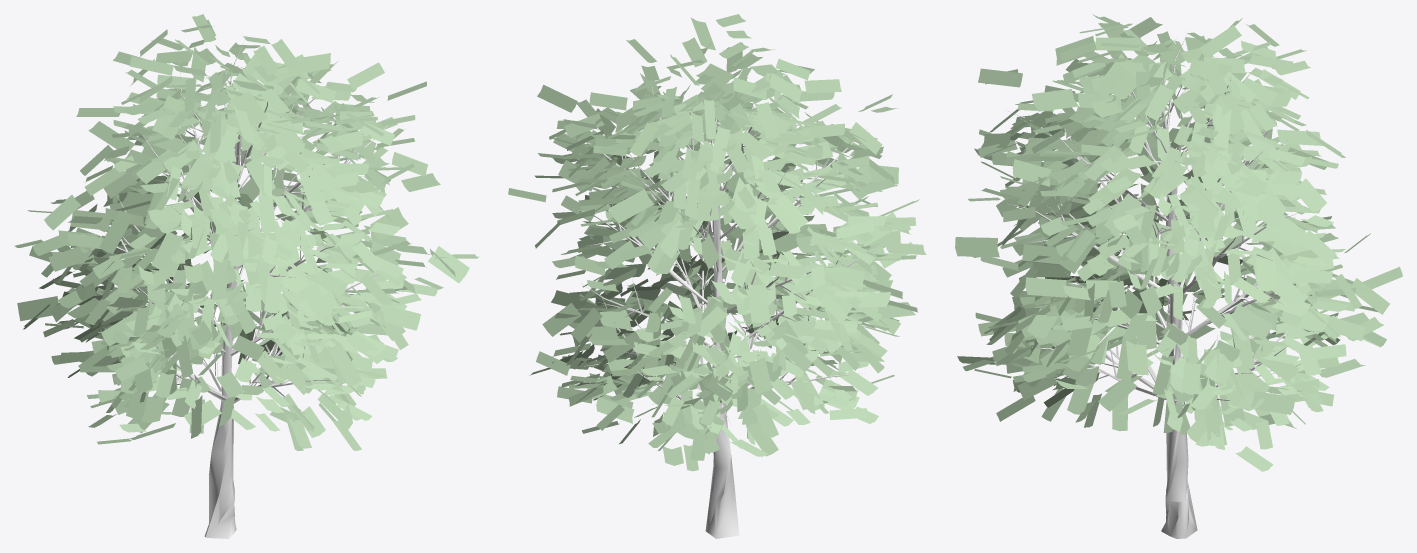
The model's file is tree_realistic_far.glb.
The picture shows the model from 3 angles, left to right: view 1: azimuth 30°, elevation 25°; view 2: azimuth 150°, elevation 25°; view 3: azimuth 270°, elevation 25°; orthographic projection. The views are drawn at different scales.
Visible parts, largest first — view 1: tree_tree; view 2: tree_tree; view 3: tree_tree.
Boxes of the visible parts, x1,y1,x2,y2 form: tree_tree: (14, 14, 478, 538); tree_tree: (508, 14, 926, 538); tree_tree: (955, 14, 1402, 538).
Bounding box in the file's own units: 3.06 × 3.86 × 2.99.
